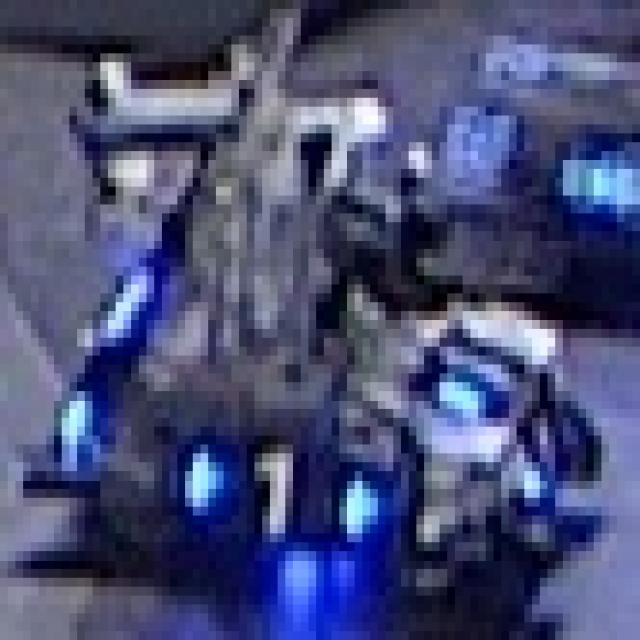B1: (166, 418, 389, 560), (498, 373, 582, 507), (416, 316, 516, 414)
